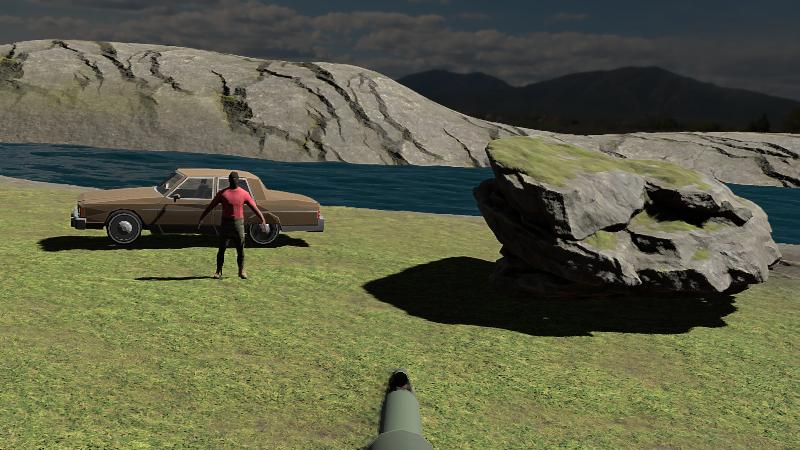Human: (198, 176, 266, 279)
car: (69, 168, 324, 246)
